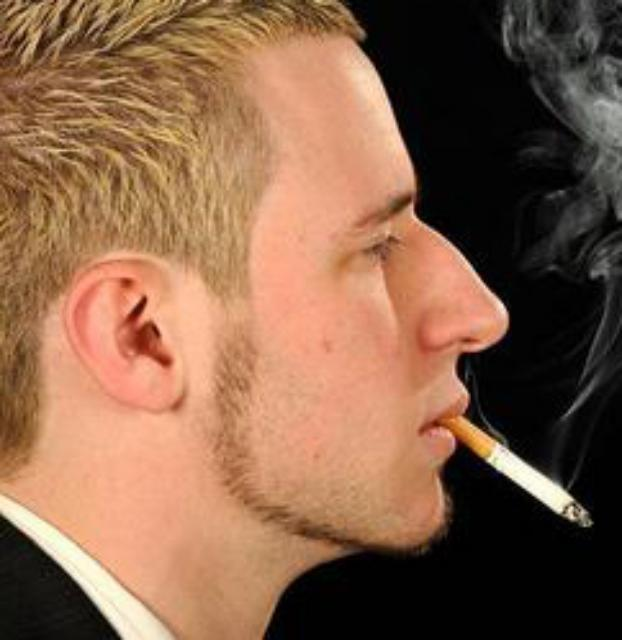Smoking: (452, 418, 594, 538)
